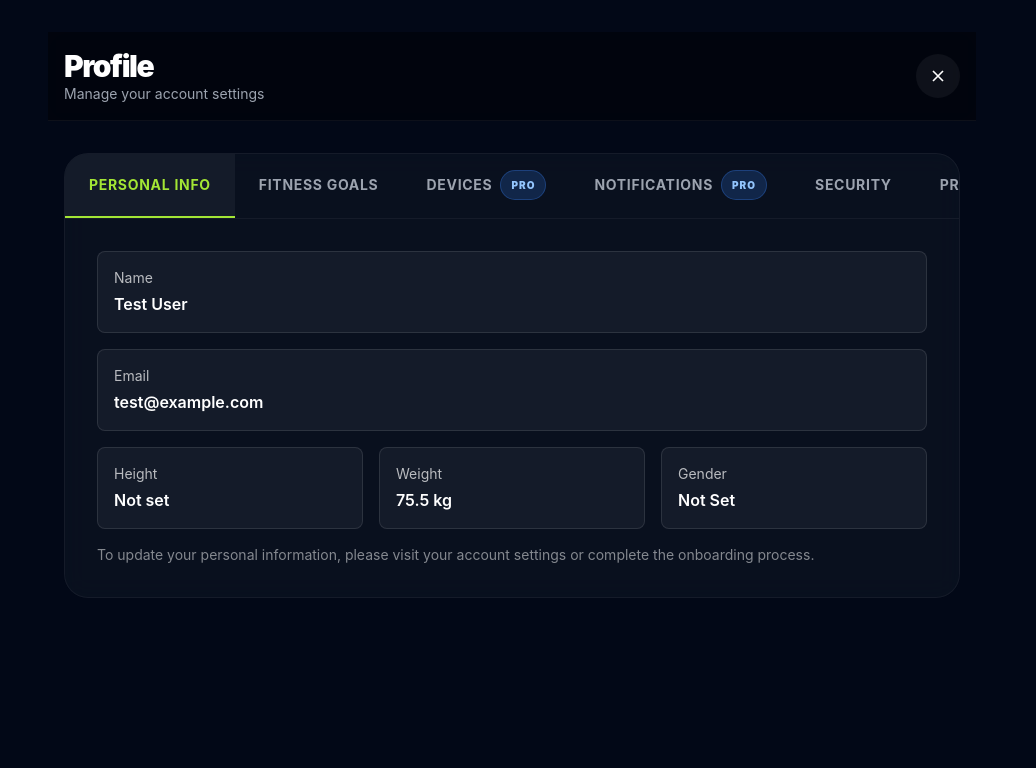
Test: ProfileView › Notifications Tab › should display PRO upgrade prompt
The image size is (1036, 768).
Click the button "Notifications PRO": (681, 186) top-left (570, 154), bottom-right (791, 218)
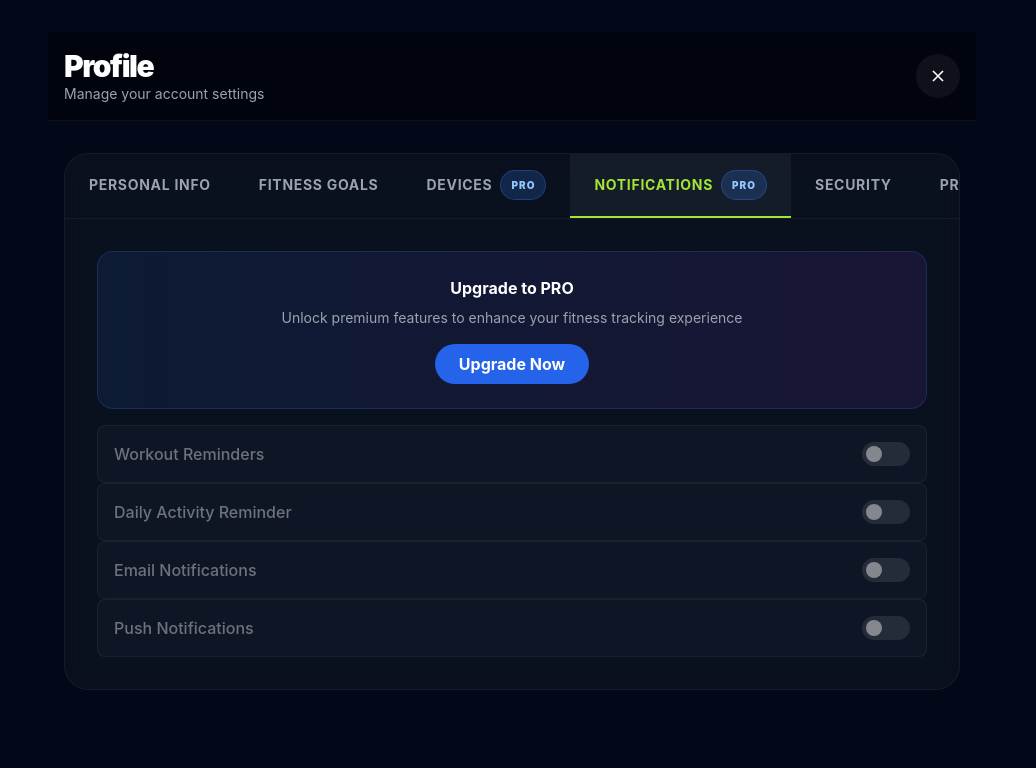
Expected: the heading "Upgrade to PRO" is shown, top-left (450, 278), bottom-right (574, 298)
